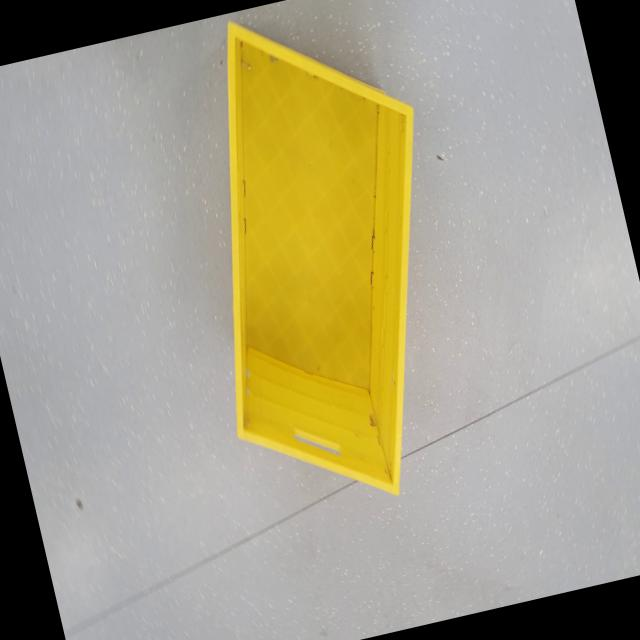box: (140, 0, 502, 534)
